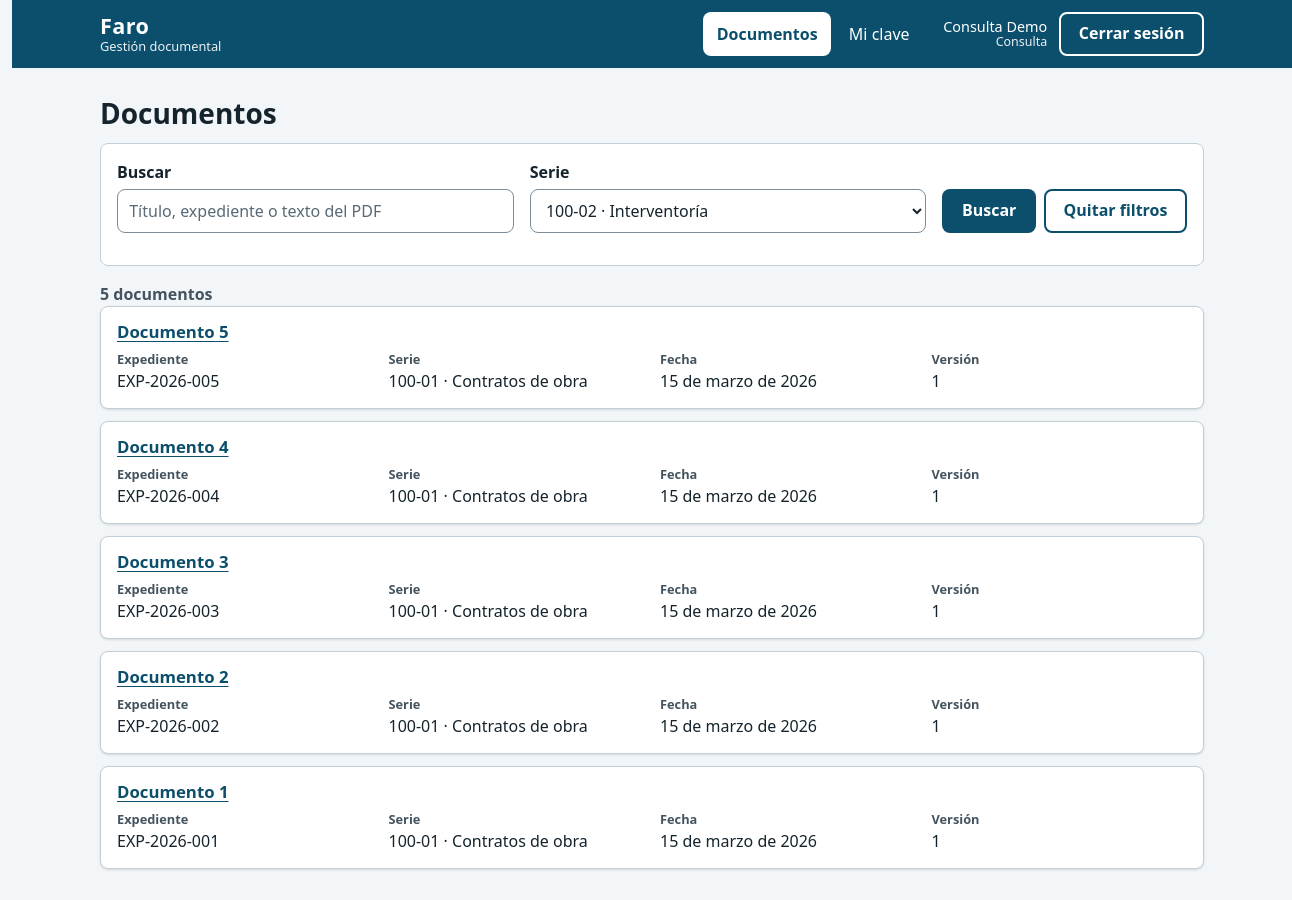
Test: listado de documentos › filtro por serie › vuelve a «Todas las series» sin mandar serieId
The width and height of the screenshot is (1292, 900).
Expected: the text "5 documentos" is shown, [100,283,213,305]
Select "Todas las series" in the dropdown labelled "Serie": x=728, y=211 [530,189,926,233]
(page scrolled)
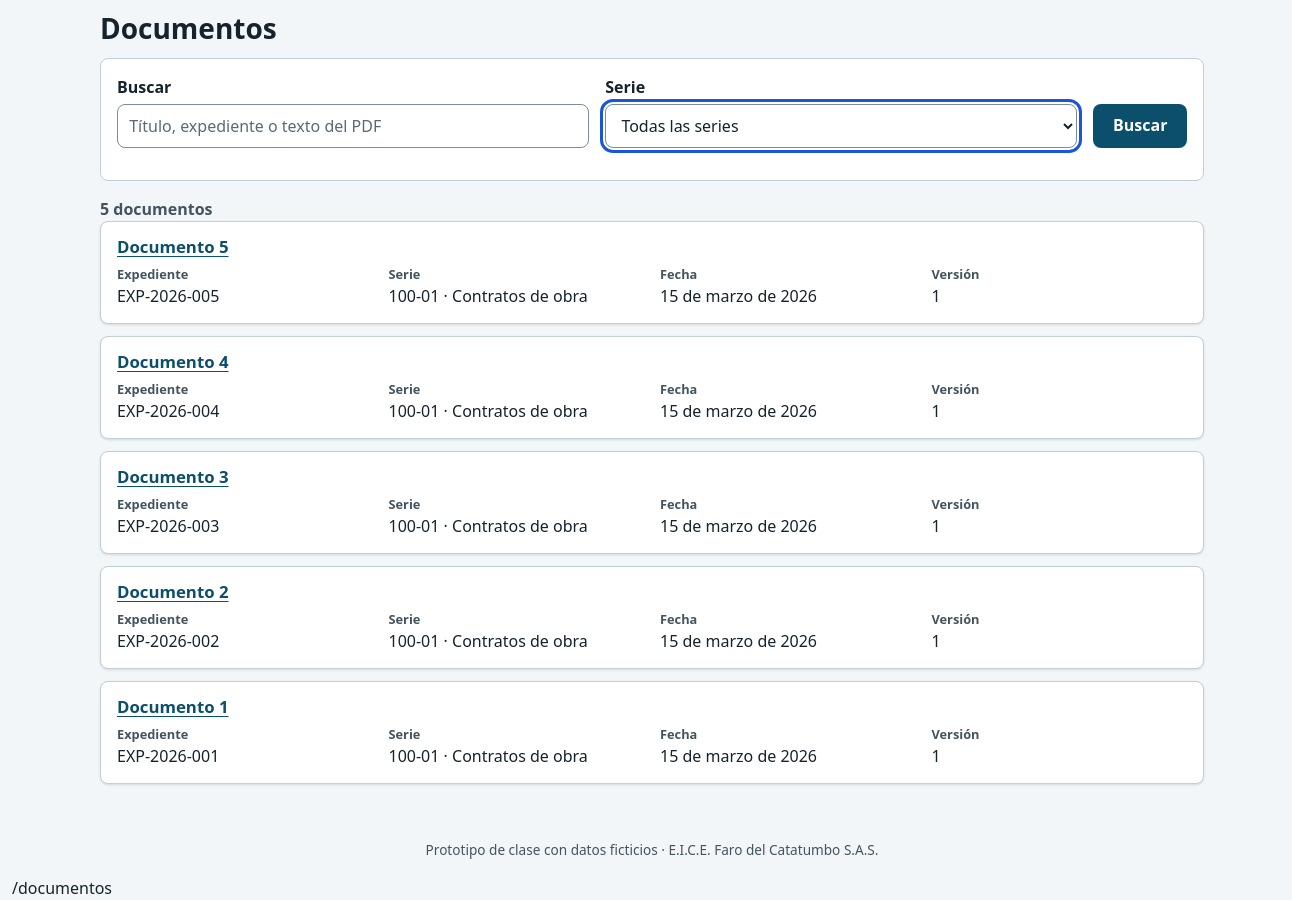
Expected: the text with test id "ubicacion" reads "/documentos", [12,877,112,899]
